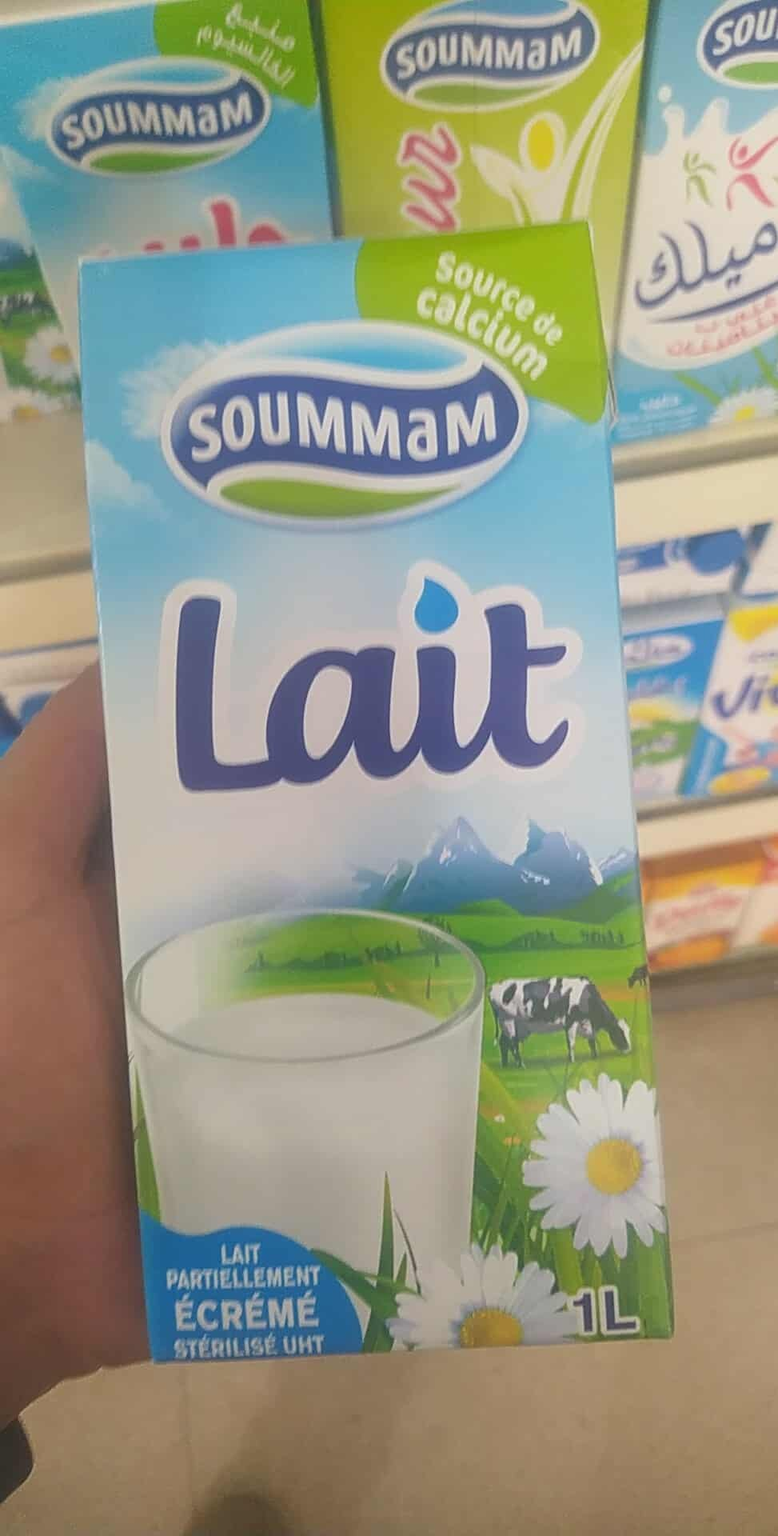soummam_milk: (57, 203, 693, 1366)
